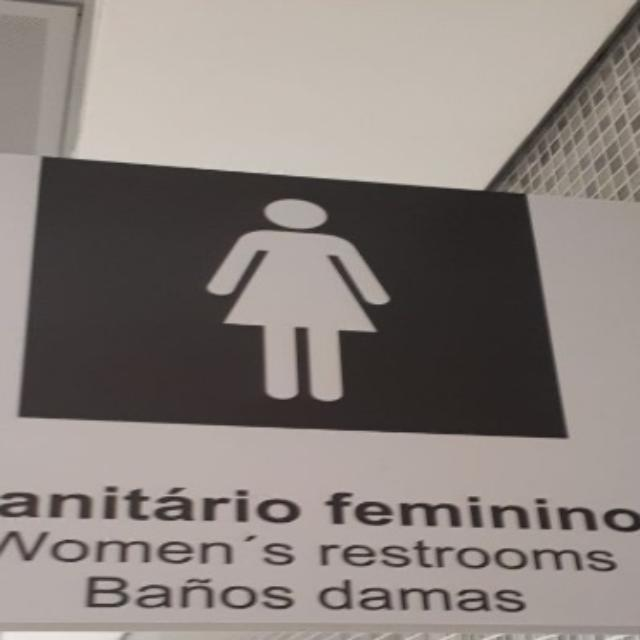wc nu: (21, 159, 566, 434)
